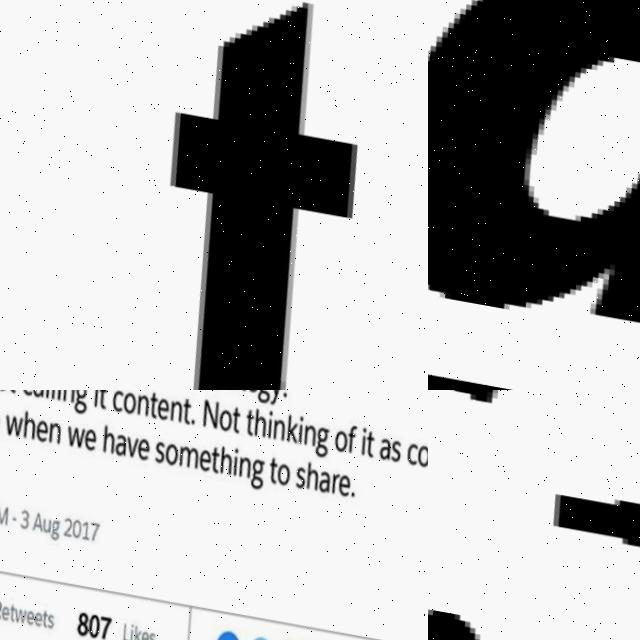3: (428, 390, 640, 640), (87, 615, 103, 640), (81, 521, 93, 541)
4: (62, 608, 83, 638)
A: (309, 467, 327, 495), (370, 437, 388, 461), (107, 431, 123, 456), (23, 511, 37, 531), (25, 390, 41, 399)
C: (398, 442, 414, 465), (103, 390, 119, 411), (14, 390, 31, 397)
D: (428, 0, 640, 377)
E: (148, 397, 167, 423), (75, 427, 94, 453), (189, 448, 208, 472), (27, 419, 45, 443), (128, 437, 146, 461), (329, 473, 345, 498), (14, 608, 27, 626), (22, 610, 34, 629), (130, 631, 139, 640)
F: (338, 423, 354, 454)
G: (241, 456, 262, 491), (306, 425, 326, 458), (65, 390, 86, 414), (40, 518, 54, 541), (248, 390, 268, 403)
H: (246, 408, 264, 437), (15, 410, 32, 440), (95, 424, 112, 454), (212, 444, 229, 473), (297, 460, 314, 489)
I: (223, 446, 235, 476), (289, 414, 300, 444), (259, 409, 270, 437), (352, 425, 362, 455), (85, 390, 96, 406), (117, 621, 125, 640), (48, 390, 60, 401)
K: (279, 414, 297, 443), (121, 622, 133, 640)
L: (109, 622, 122, 640), (43, 390, 54, 400), (38, 390, 48, 398)
M: (171, 444, 195, 469)
N: (194, 399, 216, 429), (295, 423, 313, 447), (130, 394, 146, 417), (163, 400, 179, 423), (230, 455, 246, 478), (41, 421, 57, 444), (266, 419, 281, 439), (56, 390, 71, 403), (423, 445, 428, 468)
O: (267, 461, 286, 488), (325, 428, 344, 452), (114, 391, 133, 415), (408, 443, 427, 467), (156, 442, 175, 466), (211, 408, 229, 432)
R: (322, 472, 335, 495)
S: (145, 439, 161, 464), (382, 439, 398, 462), (286, 466, 302, 489), (36, 614, 46, 631), (136, 631, 146, 640)
T: (83, 0, 418, 390), (237, 408, 252, 437), (259, 456, 274, 485), (140, 391, 155, 418), (201, 446, 216, 473), (224, 406, 238, 433), (174, 397, 188, 424), (357, 430, 371, 457), (90, 390, 104, 408), (30, 608, 41, 629), (0, 602, 7, 621)
U: (33, 517, 45, 534)
V: (117, 435, 135, 459)
W: (57, 424, 81, 449), (0, 413, 19, 438), (3, 608, 19, 624)
Y: (262, 390, 280, 407)
